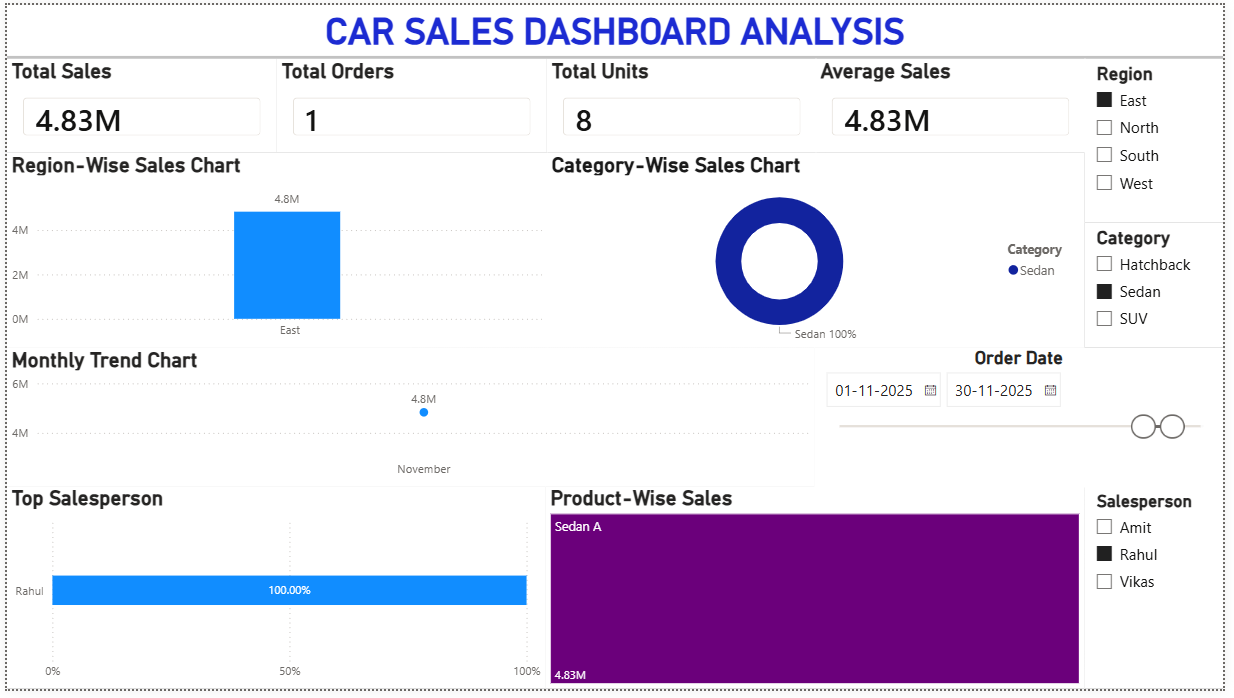

What the dashboard file says about the page in this screenshot:
{"tool":"powerbi","page":{"name":"Car Sales Dashboard","canvas":[1280,720],"ordinal":0},"visuals":[{"type":"donutChart","title":"Category-Wise Sales Chart","fields":{"Category":["Car_Sales_Dataset_1000 (1).Category"],"Y":["Car_Sales_Dataset_1000 (1).Measure 2"]},"box":[402.1,156.4,402.1,236],"z":0},{"type":"clusteredColumnChart","title":"Region-Wise Sales Chart","fields":{"Y":["Car_Sales_Dataset_1000 (1).Measure"],"Category":["Car_Sales_Dataset_1000 (1).Region"]},"box":[0,156.4,402.1,236],"z":1000},{"type":"lineChart","title":"Monthly Trend Chart","fields":{"Category":["Car_Sales_Dataset_1000 (1).OrderDate.Variation.Date Hierarchy.Month"],"Y":["Car_Sales_Dataset_1000 (1).Measure"]},"box":[0,391.1,576.3,219.6],"z":2000},{"type":"hundredPercentStackedBarChart","title":"Top Salesperson","fields":{"Y":["Car_Sales_Dataset_1000 (1).Measure"],"Category":["Car_Sales_Dataset_1000 (1).Salesperson"]},"box":[576.3,391.1,558.5,219.6],"z":3000},{"type":"textbox","box":[0,0,1280.3,53.5],"z":4000},{"type":"treemap","title":"Product-Wise Sales","fields":{"Values":["Car_Sales_Dataset_1000 (1).Measure"],"Group":["Car_Sales_Dataset_1000 (1).Product"]},"box":[804.1,156.4,330.7,236],"z":5000},{"type":"actionButton","box":[0,0,100,40],"z":6000},{"type":"slicer","title":"Slicers","fields":{"Values":["Car_Sales_Dataset_1000 (1).Region"]},"box":[1134.8,56.3,140,172.9],"z":7000},{"type":"cardVisual","title":"Total Sales","fields":{"Data":["Car_Sales_Dataset_1000 (1).Total Sales"]},"box":[0,56.3,284,98.8],"z":8000},{"type":"cardVisual","title":"Total Orders","fields":{"Data":["Car_Sales_Dataset_1000 (1).Total Orders"]},"box":[284,56.3,284,98.8],"z":9000},{"type":"cardVisual","title":"Total Units","fields":{"Data":["Car_Sales_Dataset_1000 (1).Total Units"]},"box":[568.1,56.3,284,98.8],"z":10000},{"type":"cardVisual","title":"Average Sales","fields":{"Data":["Car_Sales_Dataset_1000 (1).Measure 4"]},"box":[850.8,56.3,284,98.8],"z":11000},{"type":"slicer","fields":{"Values":["Car_Sales_Dataset_1000 (1).Category"]},"box":[1134.8,462.4,140,148.2],"z":12000},{"type":"slicer","fields":{"Values":["Car_Sales_Dataset_1000 (1).Salesperson"]},"box":[1134.8,229.2,140,233.3],"z":13000},{"type":"slicer","title":"Order Date","fields":{"Values":["Car_Sales_Dataset_1000 (1).OrderDate"]},"box":[0,610.6,1274.8,109.8],"z":14000}]}

Visuals, with their boxes in screenshot pixels (x1, y1, x2, y2), scaled from the page's 1280x720 canvas onto the 1234x698 screenshot:
"Category-Wise Sales Chart" donutChart: crop(388, 152, 775, 380)
"Region-Wise Sales Chart" clusteredColumnChart: crop(0, 152, 388, 380)
"Monthly Trend Chart" lineChart: crop(0, 379, 556, 592)
"Top Salesperson" hundredPercentStackedBarChart: crop(556, 379, 1094, 592)
textbox: crop(0, 0, 1233, 52)
"Product-Wise Sales" treemap: crop(775, 152, 1094, 380)
actionButton: crop(0, 0, 96, 39)
"Slicers" slicer: crop(1094, 55, 1229, 222)
"Total Sales" cardVisual: crop(0, 55, 274, 150)
"Total Orders" cardVisual: crop(274, 55, 548, 150)
"Total Units" cardVisual: crop(548, 55, 821, 150)
"Average Sales" cardVisual: crop(820, 55, 1094, 150)
slicer - Car_Sales_Dataset_1000 (1).Category: crop(1094, 448, 1229, 592)
slicer - Car_Sales_Dataset_1000 (1).Salesperson: crop(1094, 222, 1229, 448)
"Order Date" slicer: crop(0, 592, 1229, 697)
